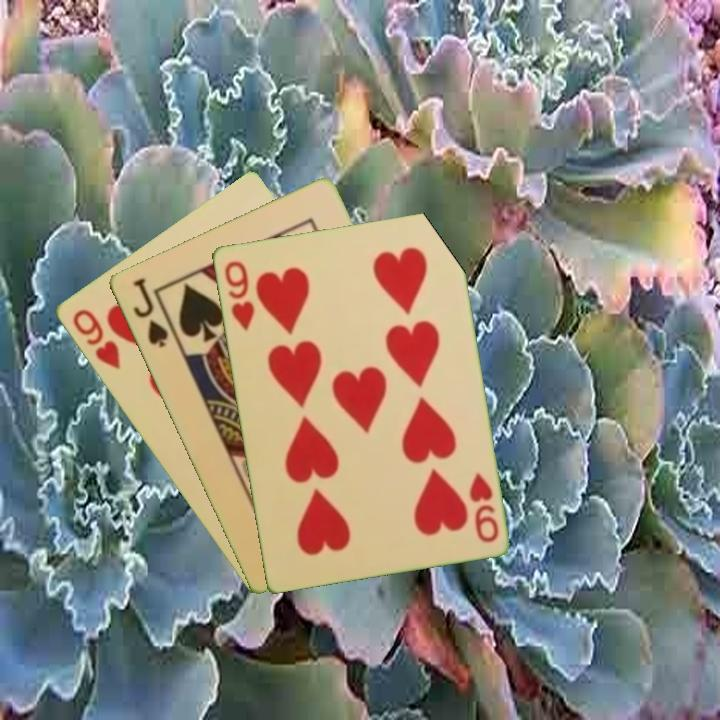9h: (68, 305, 123, 372), (220, 257, 257, 333), (465, 469, 501, 545)
Js: (128, 274, 171, 351)
